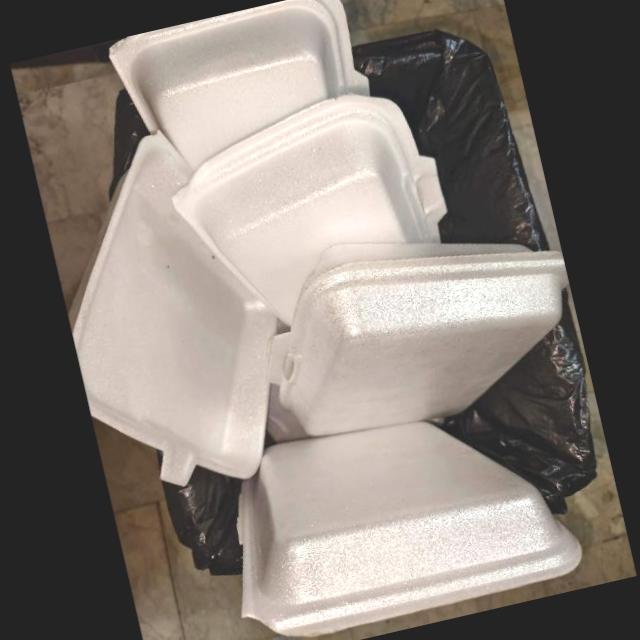xop: (237, 421, 582, 637), (72, 130, 277, 487), (173, 96, 447, 329), (266, 243, 569, 437), (108, 0, 370, 171)
